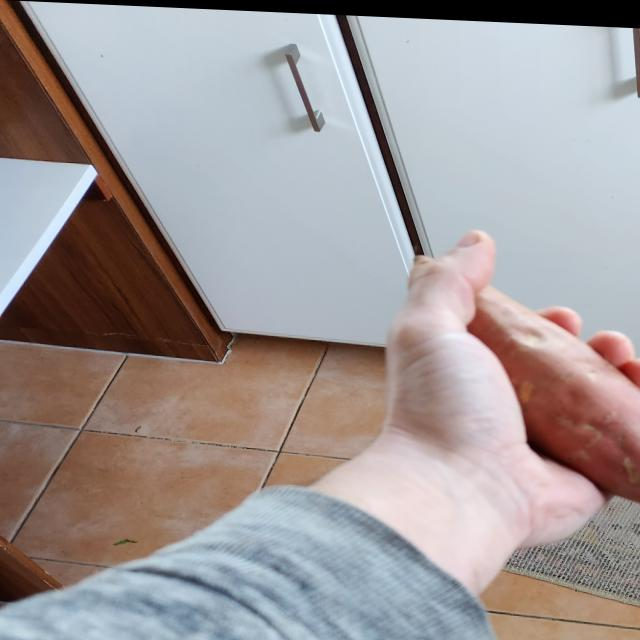kumara: (409, 246, 640, 511)
